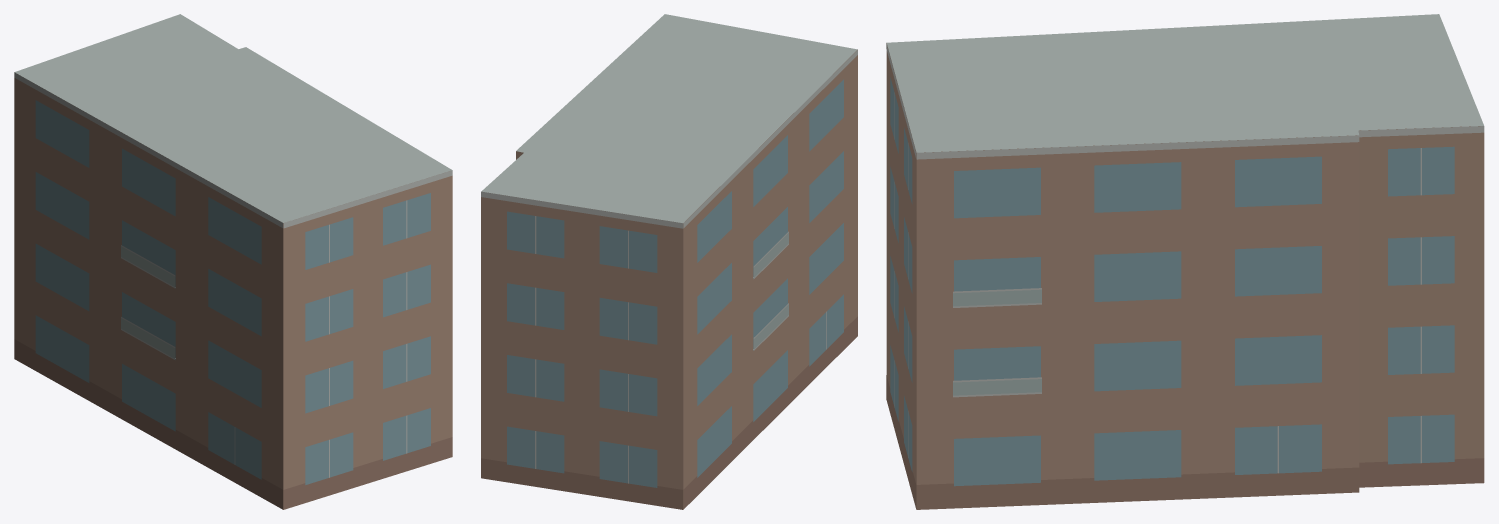
Rendered from survey-upis-33000420.glb.
3 renders of one model, left to right at view 1: azimuth 30°, elevation 25°; view 2: azimuth 150°, elevation 25°; view 3: azimuth 270°, elevation 25°, orthographic. The views are drawn at different scales.
Visible parts, largest first — view 1: survey-upis-33000420.tmp; view 2: survey-upis-33000420.tmp; view 3: survey-upis-33000420.tmp.
Part boxes in pixels (x1,y1,x2,y2): survey-upis-33000420.tmp: (14,14,452,509); survey-upis-33000420.tmp: (481,14,857,509); survey-upis-33000420.tmp: (886,14,1484,509).
Size of the model in its own units: 10.67 by 12.8 by 19.43.
